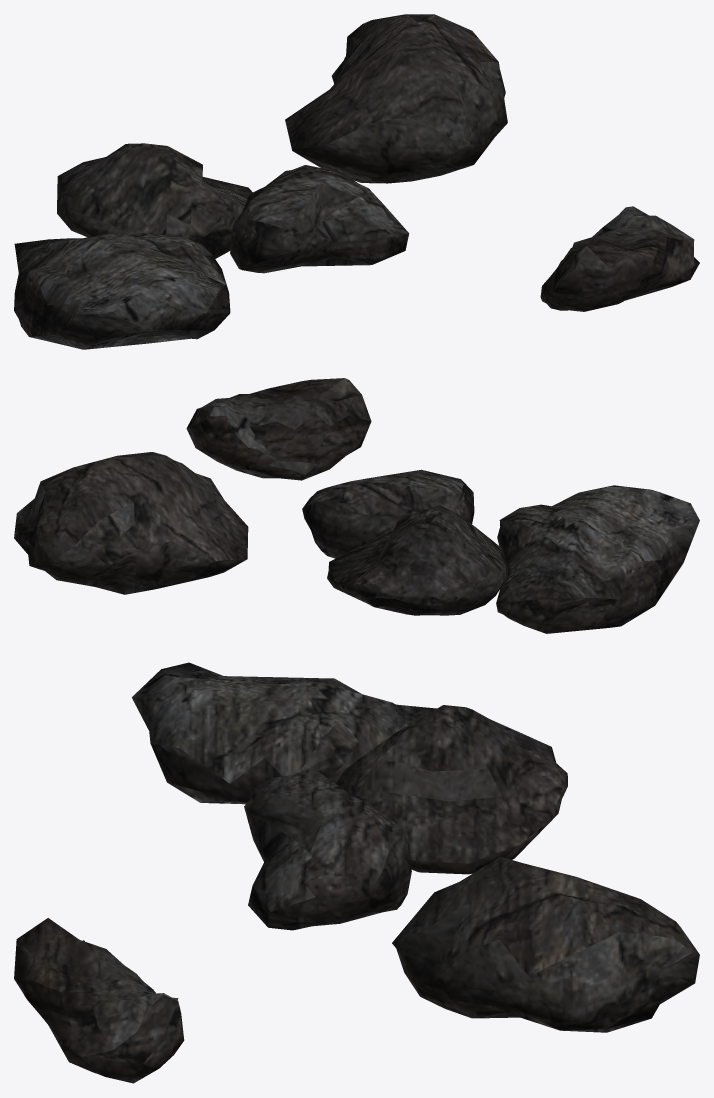
File: mine_rocks_5.glb
The picture shows the model from 3 angles, top to bottom: view 1: azimuth 30°, elevation 25°; view 2: azimuth 150°, elevation 25°; view 3: azimuth 270°, elevation 25°; orthographic projection. The views are drawn at different scales.
Visible parts, largest first — view 1: rocks_5_mid; view 2: rocks_5_mid; view 3: rocks_5_mid.
Boxes of the visible parts, x1,y1,x2,y2 form: rocks_5_mid: (14,14,699,349); rocks_5_mid: (14,378,699,633); rocks_5_mid: (14,662,699,1083).
Size of the model in its own units: 4.93 by 1.19 by 4.22.
Materials: 1 (1 with a texture image).
